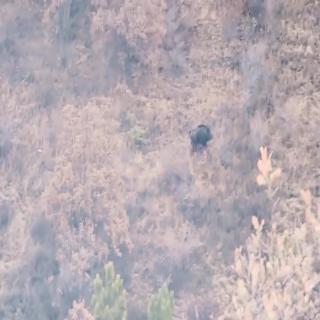Pig: (183, 110, 219, 156)
